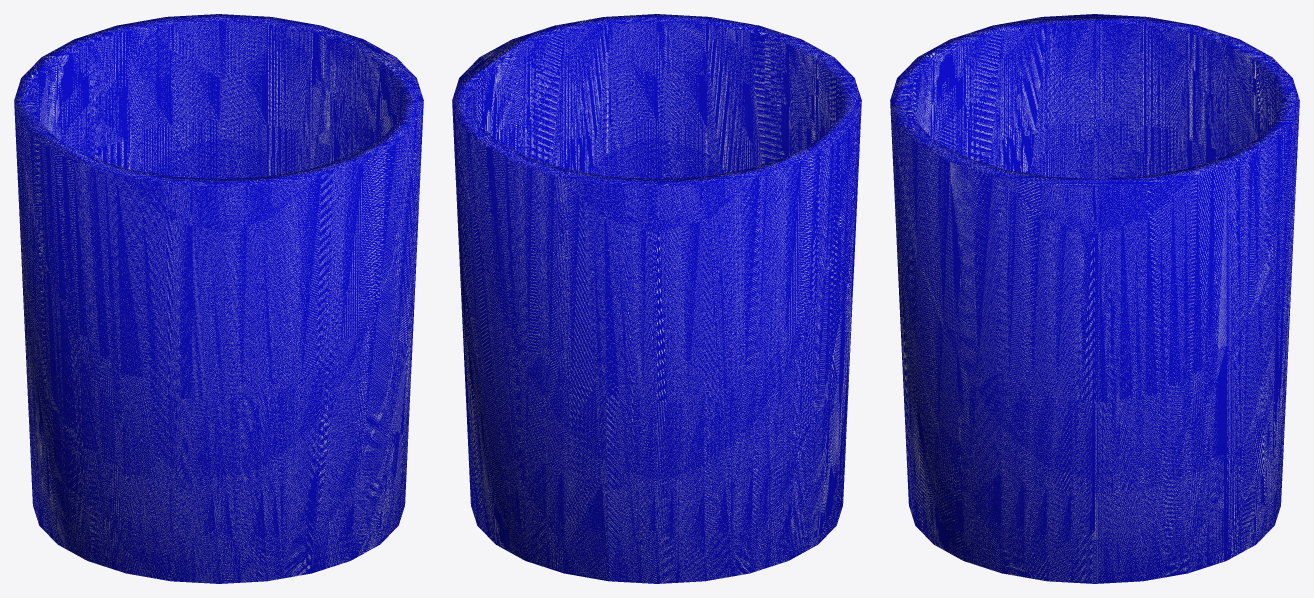
The model's file is cup_04_origin.dae.
3 views of the same model, side by side, from view 1: azimuth 30°, elevation 25°; view 2: azimuth 150°, elevation 25°; view 3: azimuth 270°, elevation 25° (orthographic).
Parts seen in each view (by area): view 1: dixie_cup (×2); view 2: dixie_cup (×2); view 3: dixie_cup (×2).
Part boxes in pixels (x1,y1,x2,y2): dixie_cup (×2): (14, 14, 423, 583); dixie_cup (×2): (452, 14, 861, 583); dixie_cup (×2): (890, 14, 1299, 583).
Bounding box in the file's own units: 4.77 × 4.77 × 5.2.
